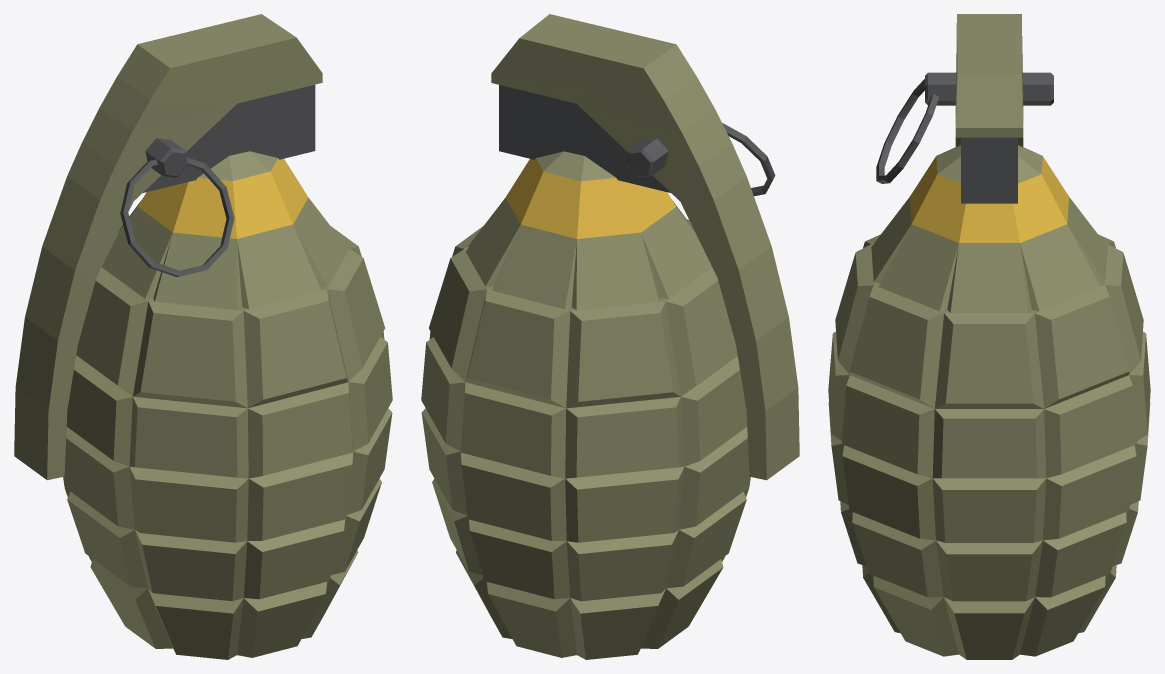
Rendered from granade.glb.
3 renders of one model, left to right at view 1: azimuth 30°, elevation 25°; view 2: azimuth 150°, elevation 25°; view 3: azimuth 270°, elevation 25°, orthographic.
Visible parts, largest first — view 1: Hand_grenade; view 2: Hand_grenade; view 3: Hand_grenade.
Boxes of the visible parts, x1,y1,x2,y2 form: Hand_grenade: (14,14,392,659); Hand_grenade: (421,14,799,659); Hand_grenade: (828,14,1150,659).
Bounding box in the file's own units: 0.1283 × 0.213 × 0.1085.
Materials: 1 (1 with a texture image).
